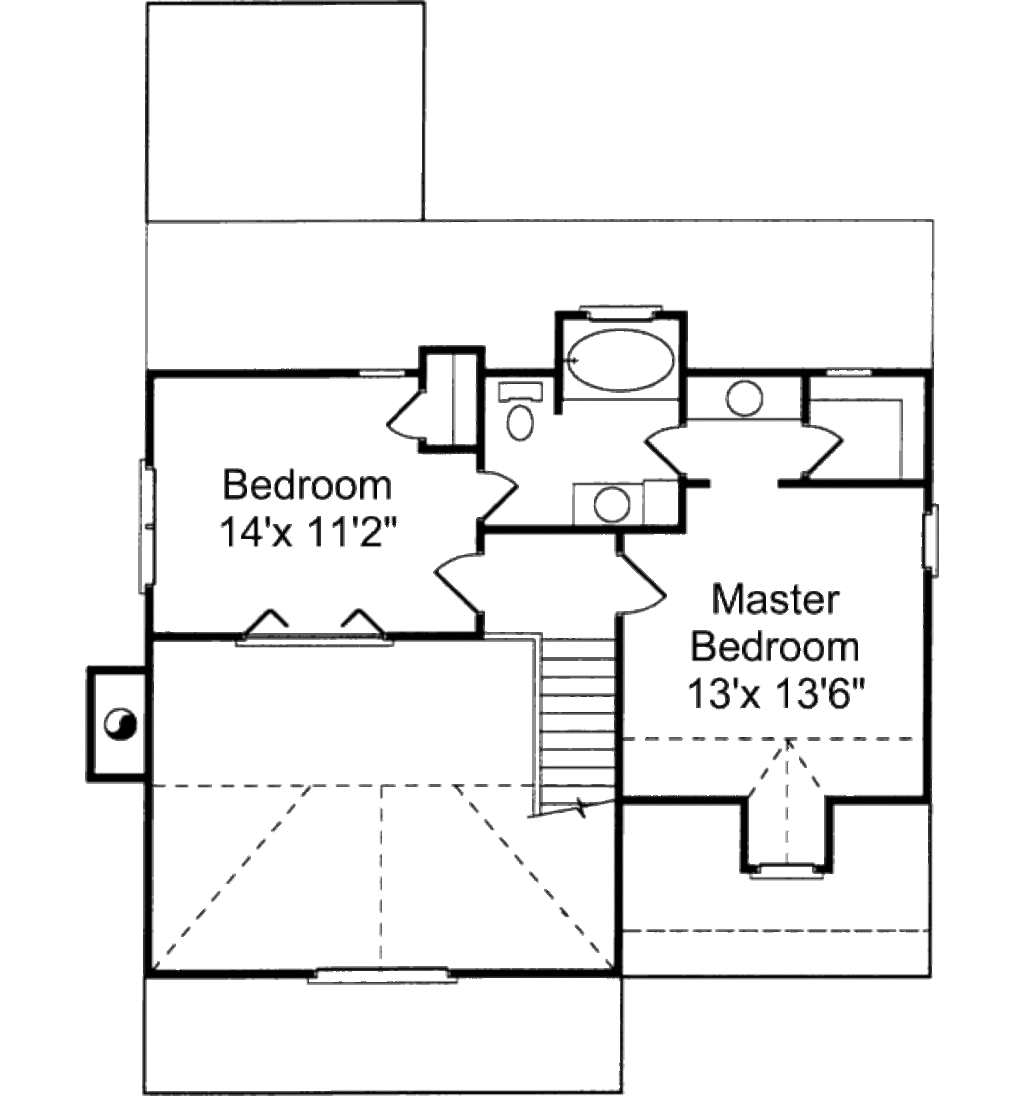door: (607, 549, 667, 625), (428, 551, 490, 615), (133, 456, 159, 604), (368, 393, 430, 444), (798, 416, 845, 480), (638, 420, 681, 484), (474, 472, 523, 526)
large_sink: (494, 375, 554, 444), (571, 481, 645, 530)
small_sink: (682, 373, 808, 424)
stairs: (531, 630, 618, 822)
tub: (560, 317, 681, 408)
windows: (304, 963, 462, 993), (139, 458, 157, 591), (580, 297, 659, 325), (753, 860, 823, 887), (916, 506, 943, 574)
